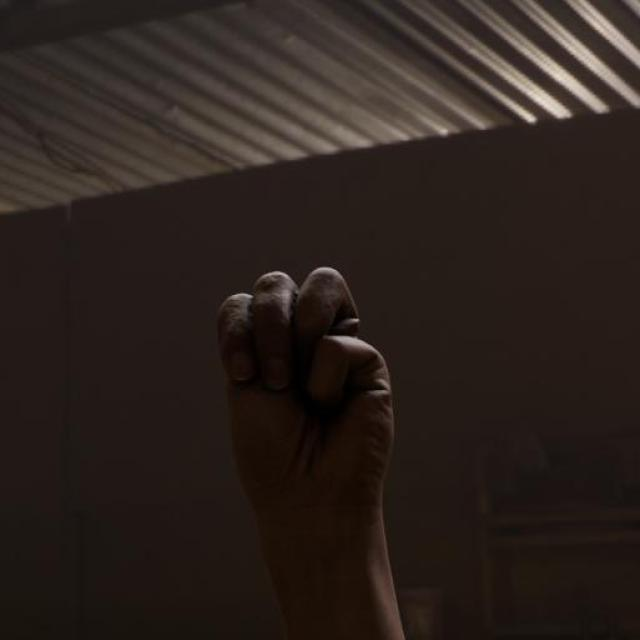M: (211, 262, 399, 532)
